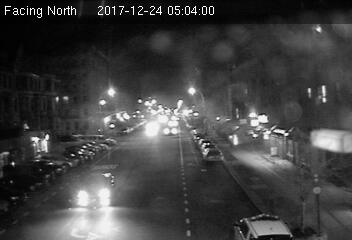car: (70, 172, 119, 211), (202, 148, 224, 164), (162, 126, 177, 137)
police: (229, 212, 296, 240)
